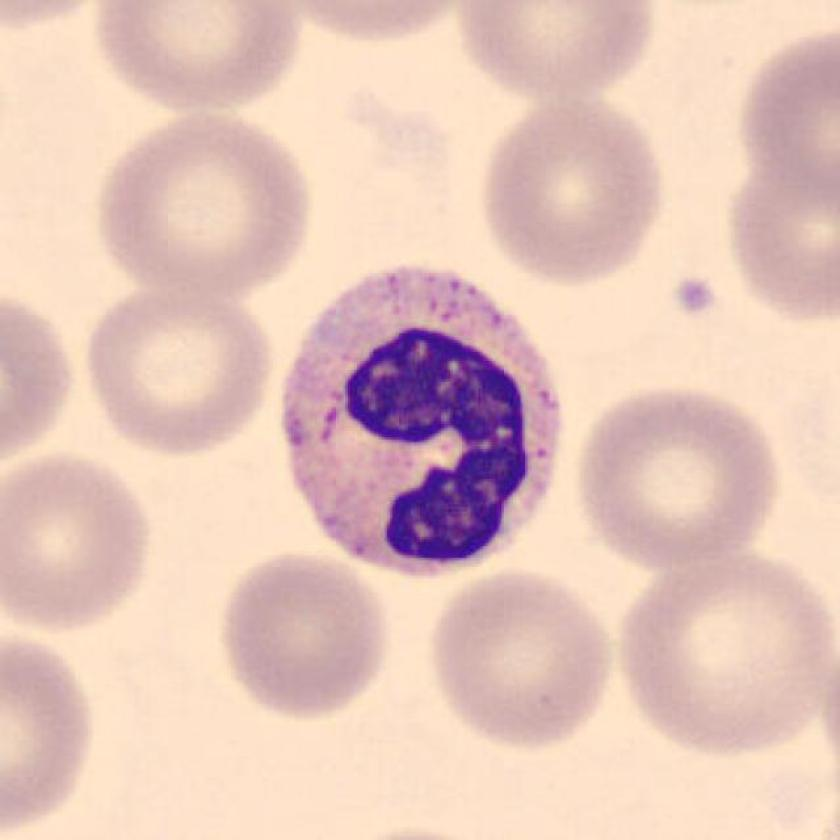neutrophil: (281, 266, 560, 573)
